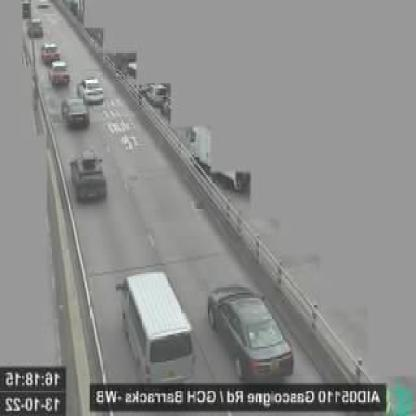Car: (206, 279, 296, 385), (119, 269, 195, 386), (67, 149, 111, 205), (58, 93, 91, 132), (77, 72, 108, 106), (47, 60, 71, 89), (41, 42, 60, 65), (29, 18, 44, 36)
